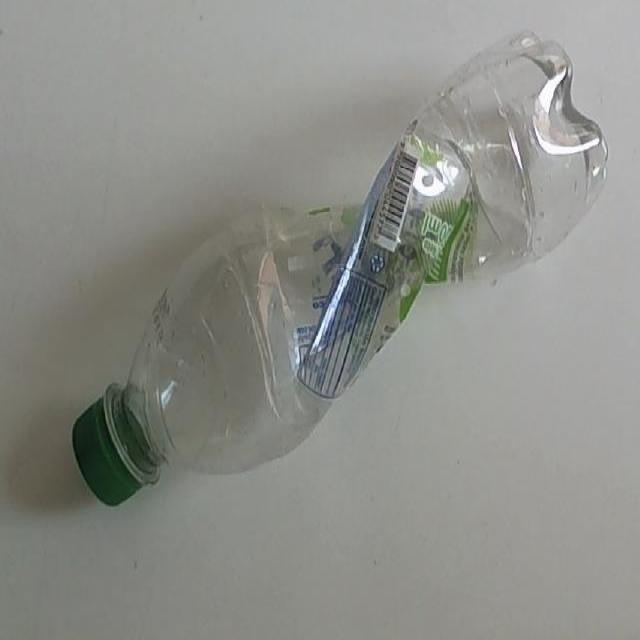defect: (68, 27, 610, 509)
